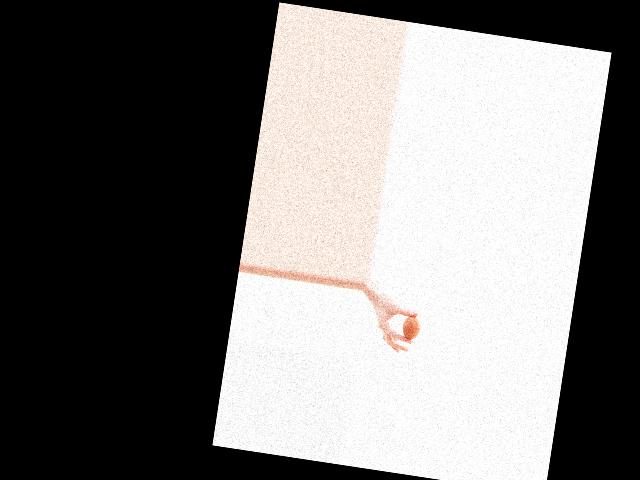egg: (401, 314, 422, 341)
